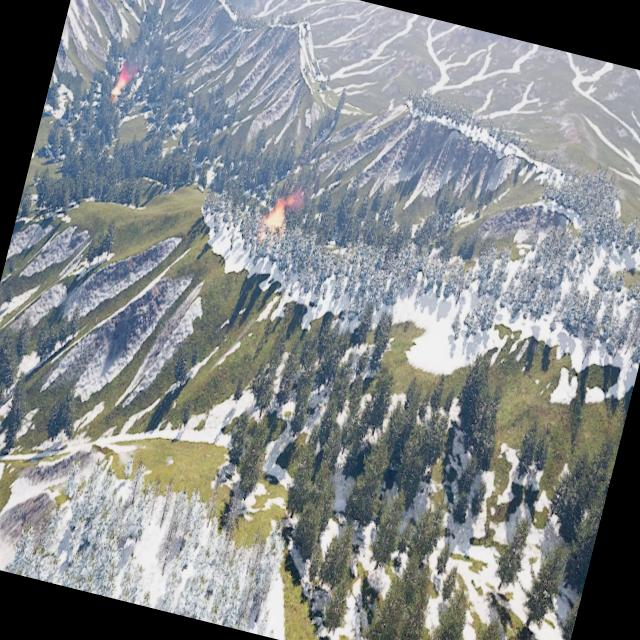fire: (265, 199, 288, 230), (110, 70, 130, 102)
smoke: (284, 176, 318, 213), (118, 59, 144, 82)
